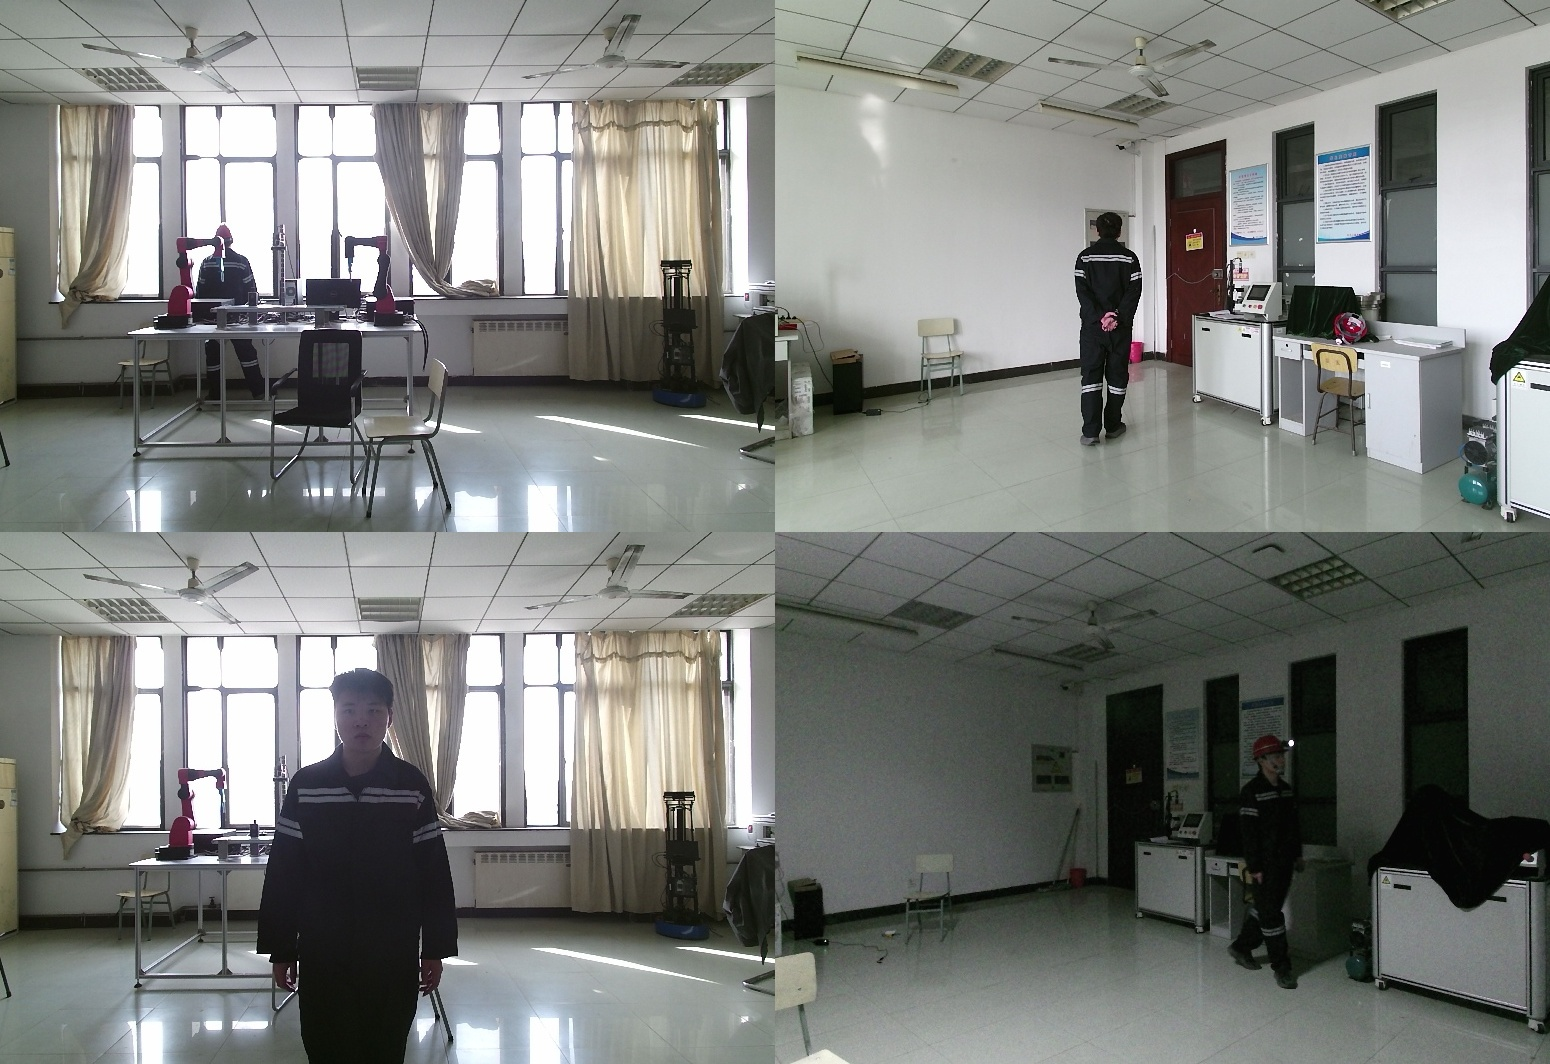person: (267, 667, 476, 1064), (1229, 736, 1310, 989), (1064, 211, 1147, 448), (196, 227, 270, 412)
